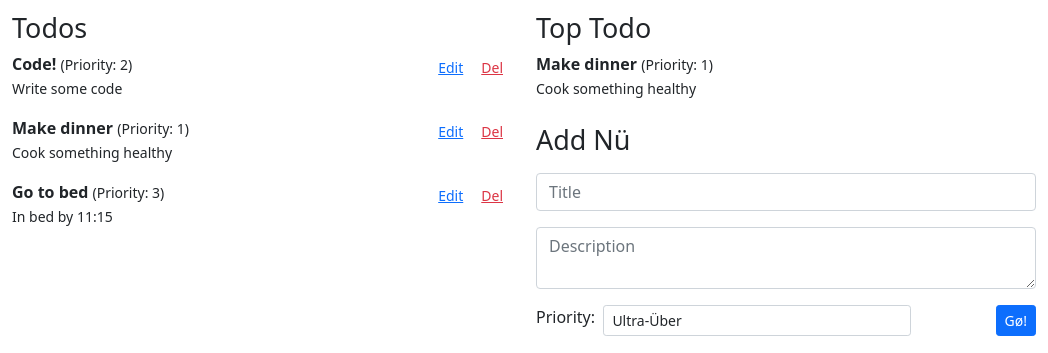
Test: Adding an item › adds a new item
Check: the text "Making some tests" is not shown
Type "Making some tests" into the field labelled "Title". click: (786, 192)
box: x1=536 y1=173 x2=1036 y2=211
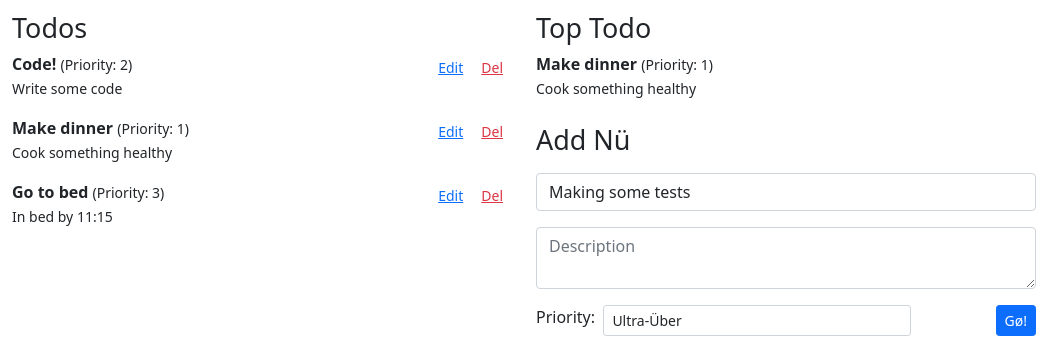
Type "Making some tests right now" into the text box labelled "Description". click: (786, 258)
box: x1=536 y1=227 x2=1036 y2=289
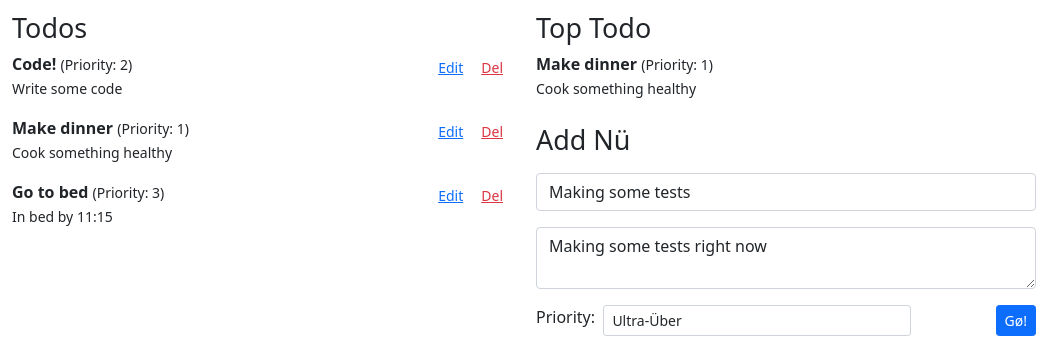
Select "Über" in the dropdown labelled "Priority:". click: (757, 320)
box: x1=603 y1=305 x2=911 y2=336
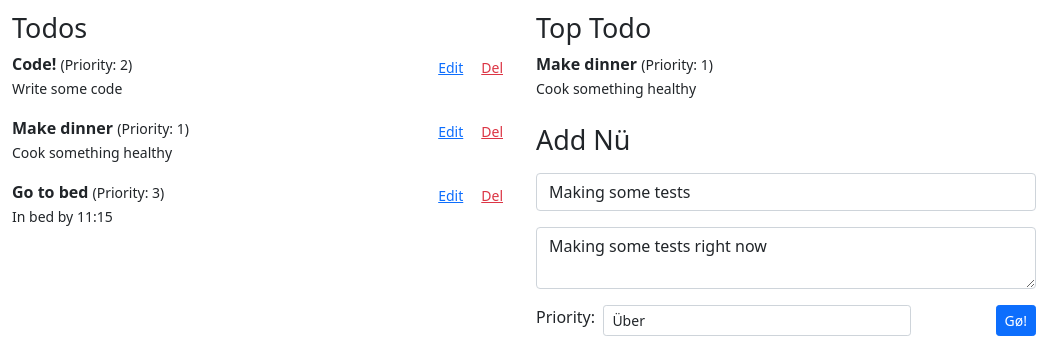
Click the button "Gø!". click: (1016, 320)
box: x1=996 y1=305 x2=1036 y2=336
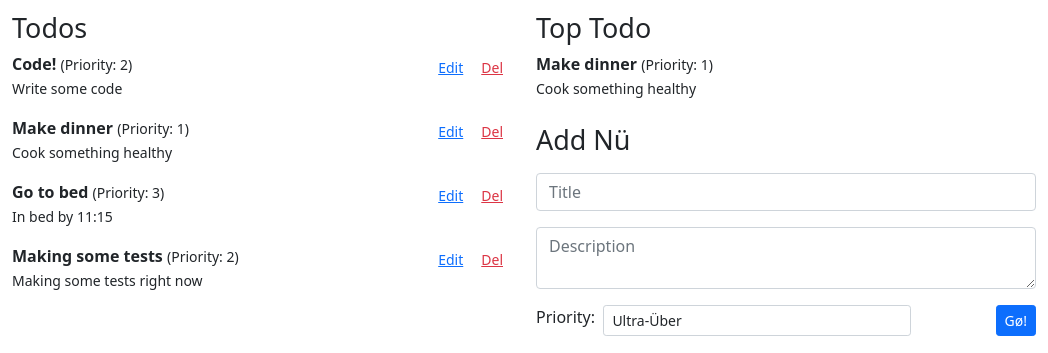
Check: the text "Making some tests right now" is shown, box x1=12 y1=271 x2=203 y2=290
